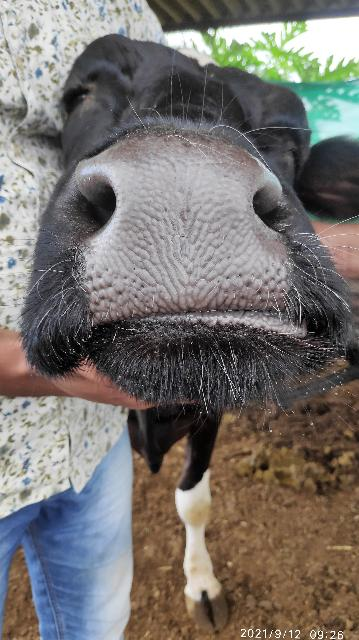Muzzle: (95, 161, 289, 299)
